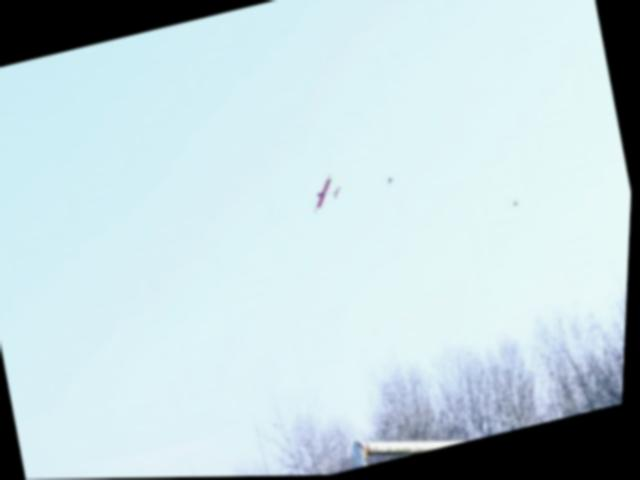uav: (295, 159, 356, 222)
